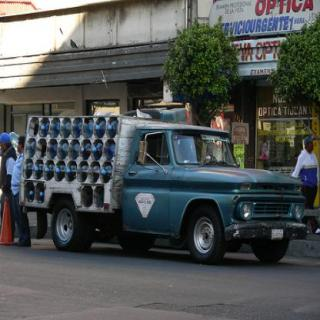Normal_vehicle: (17, 106, 311, 269)
